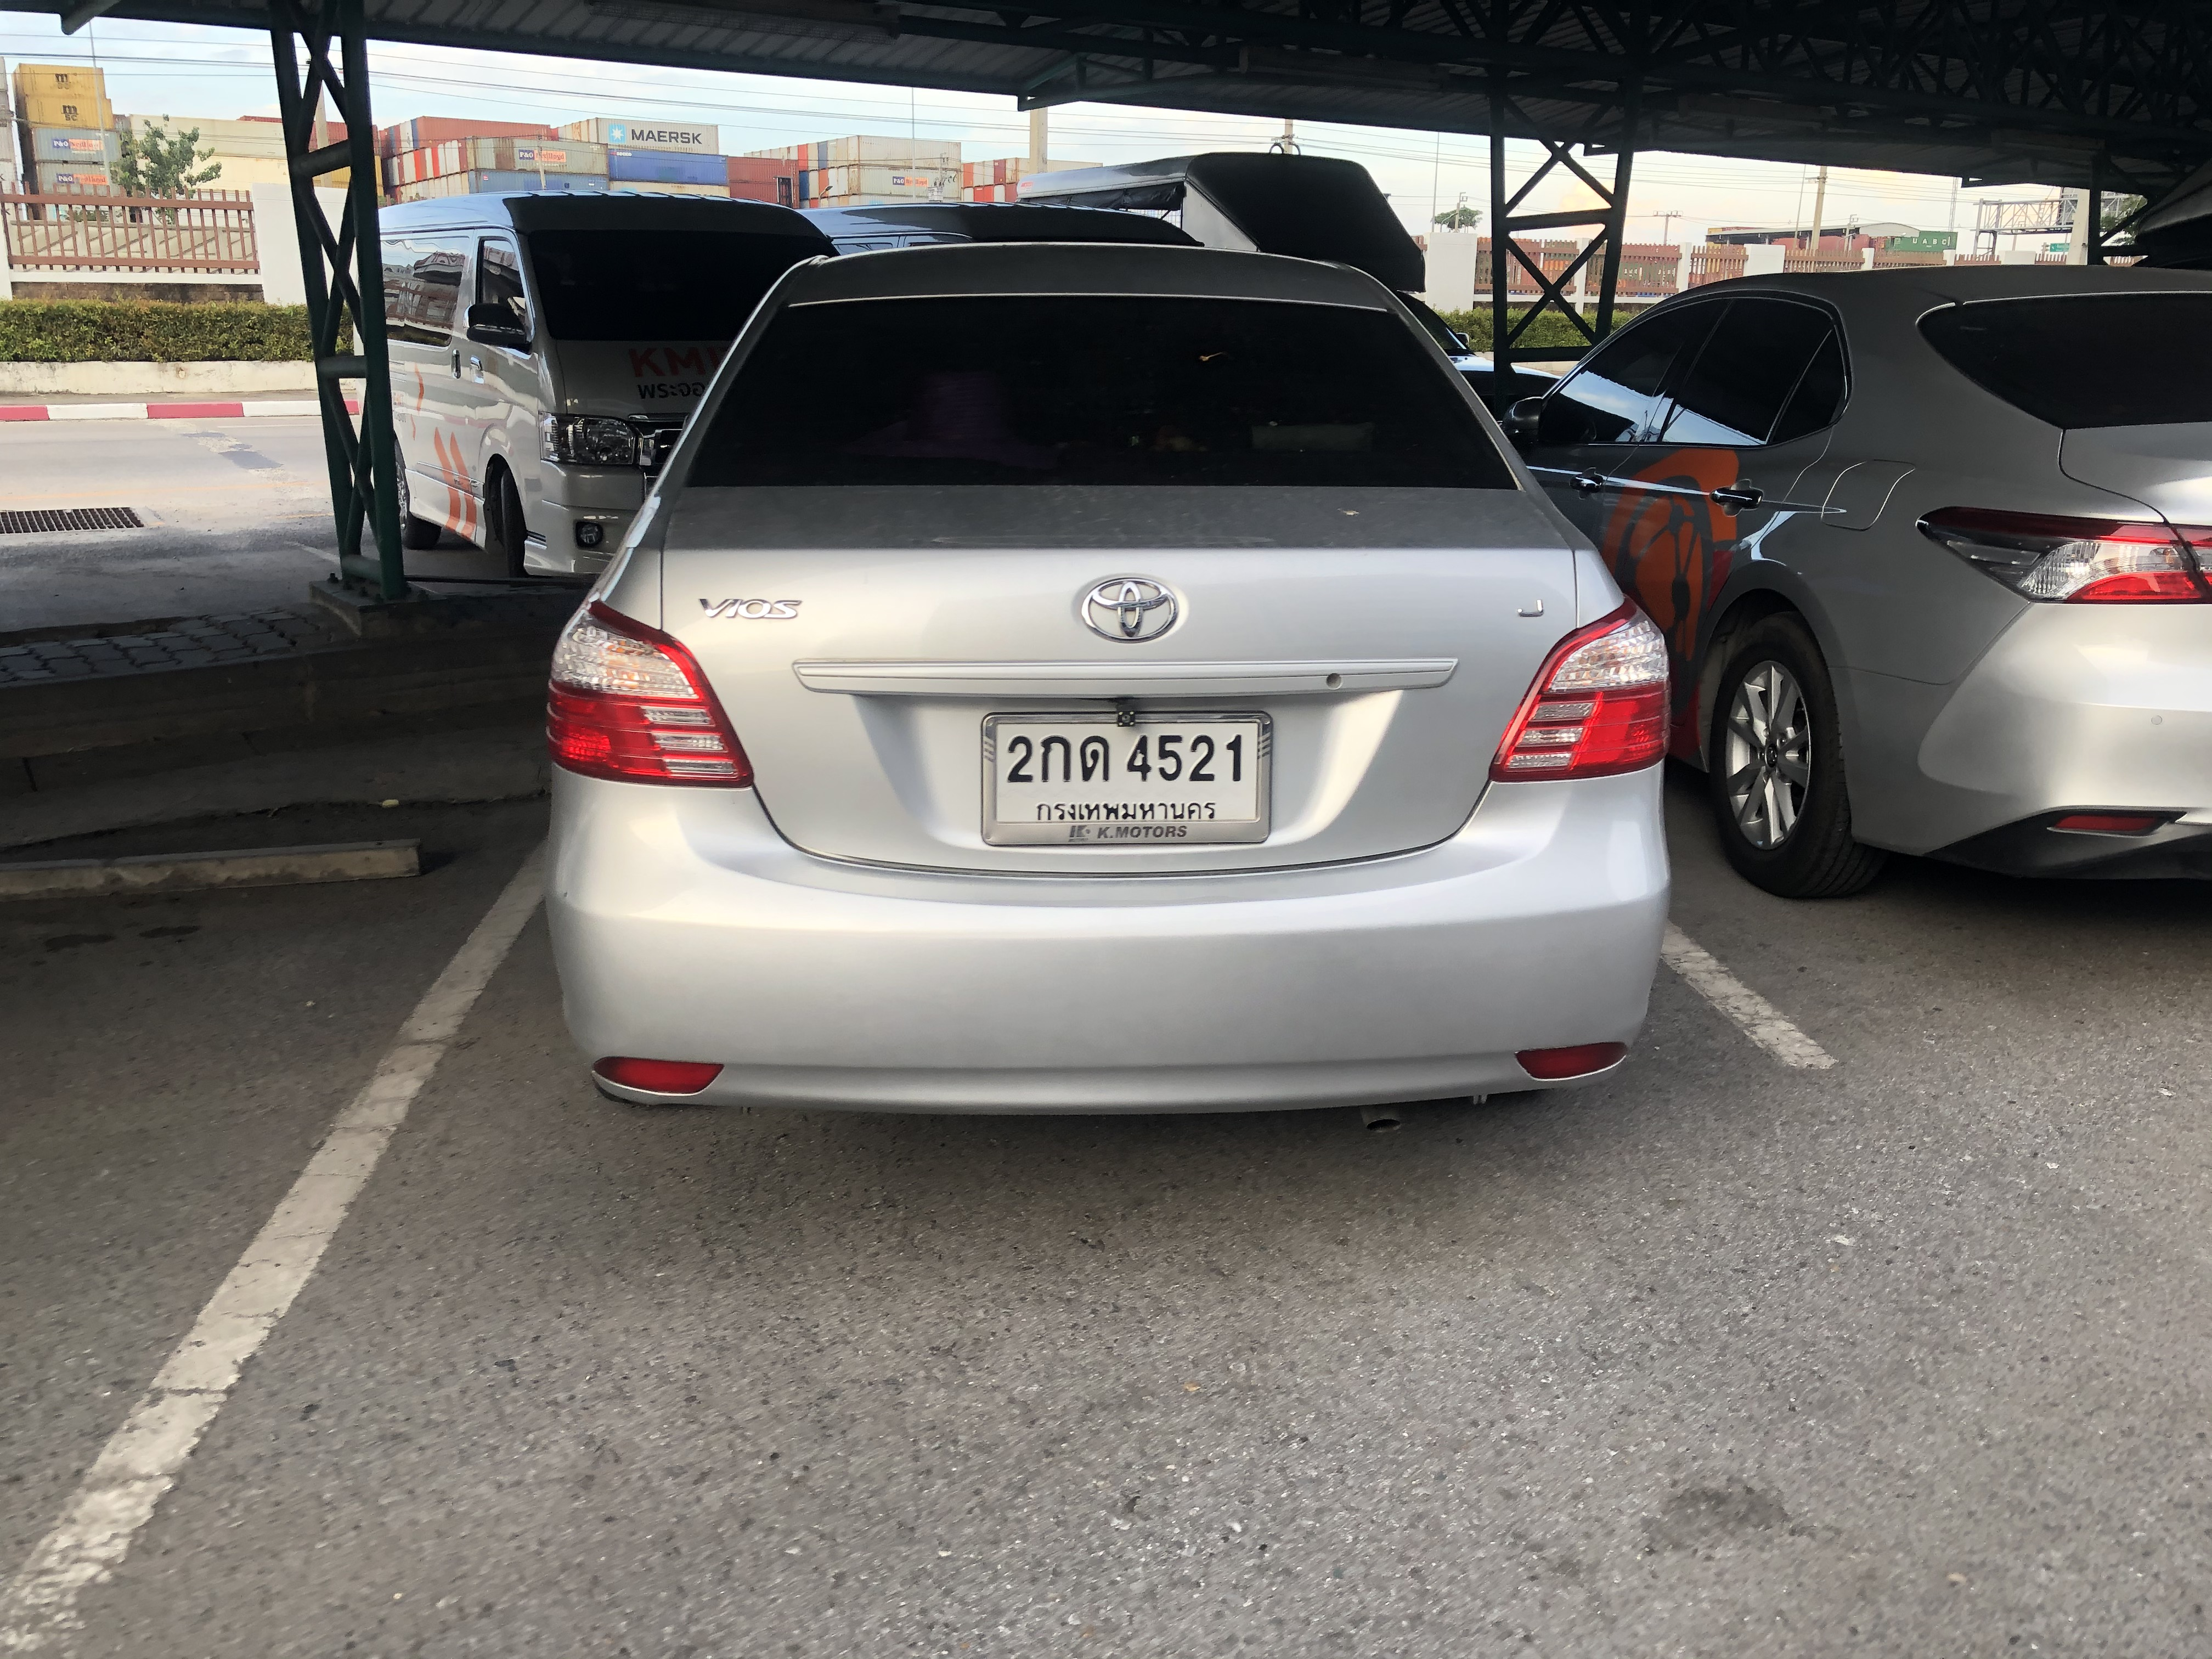in: (998, 727, 1256, 826)
out: (981, 713, 1271, 847)
